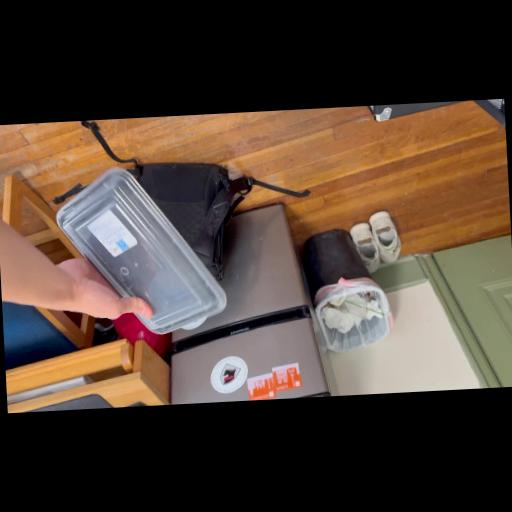rigid_plastic_container: (40, 161, 236, 355)
